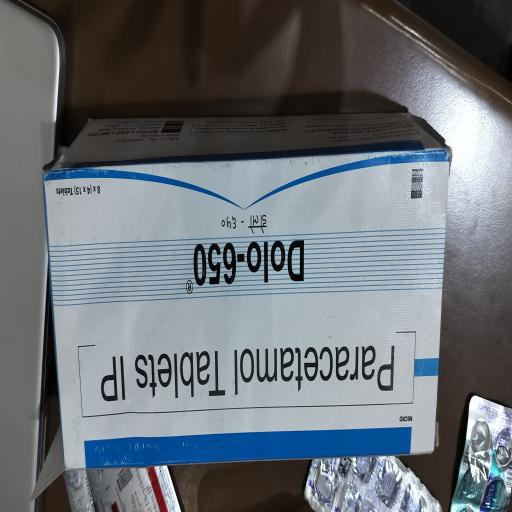medicine: (53, 138, 438, 452)
paracetamol: (76, 329, 417, 406)
